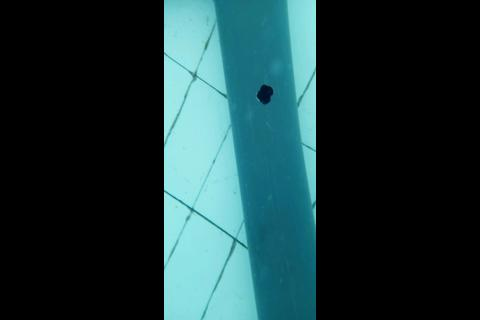kebocoran: (255, 82, 275, 105)
